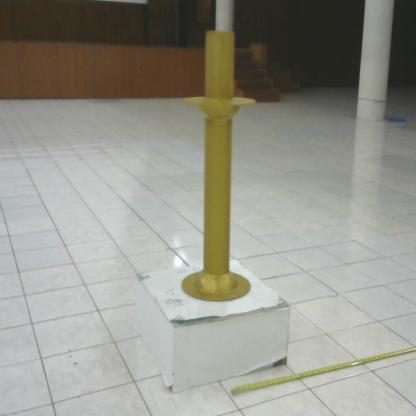pole: (179, 22, 263, 312)
